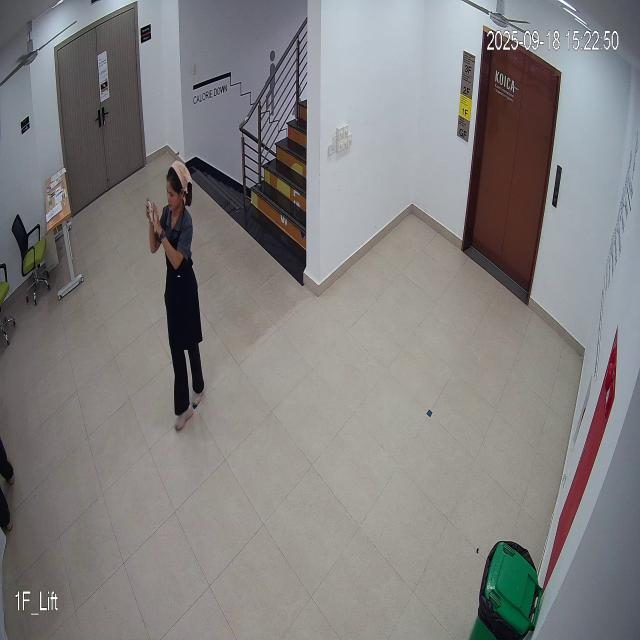face: (162, 159, 194, 219)
